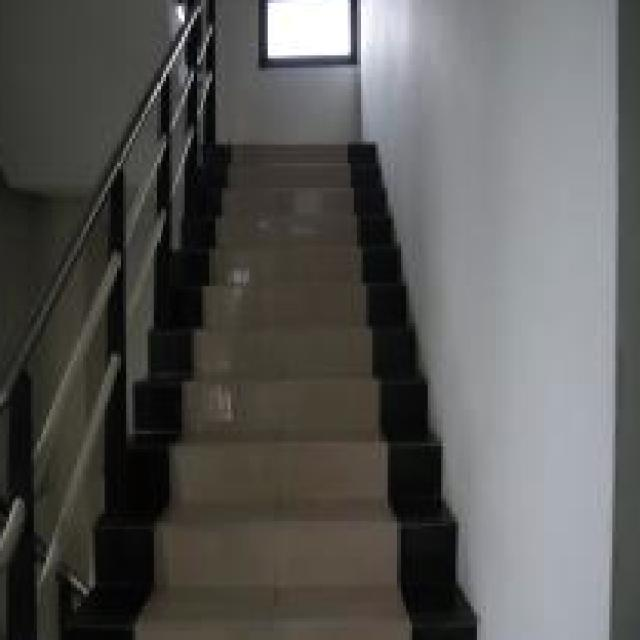upstair: (210, 152, 429, 640)
